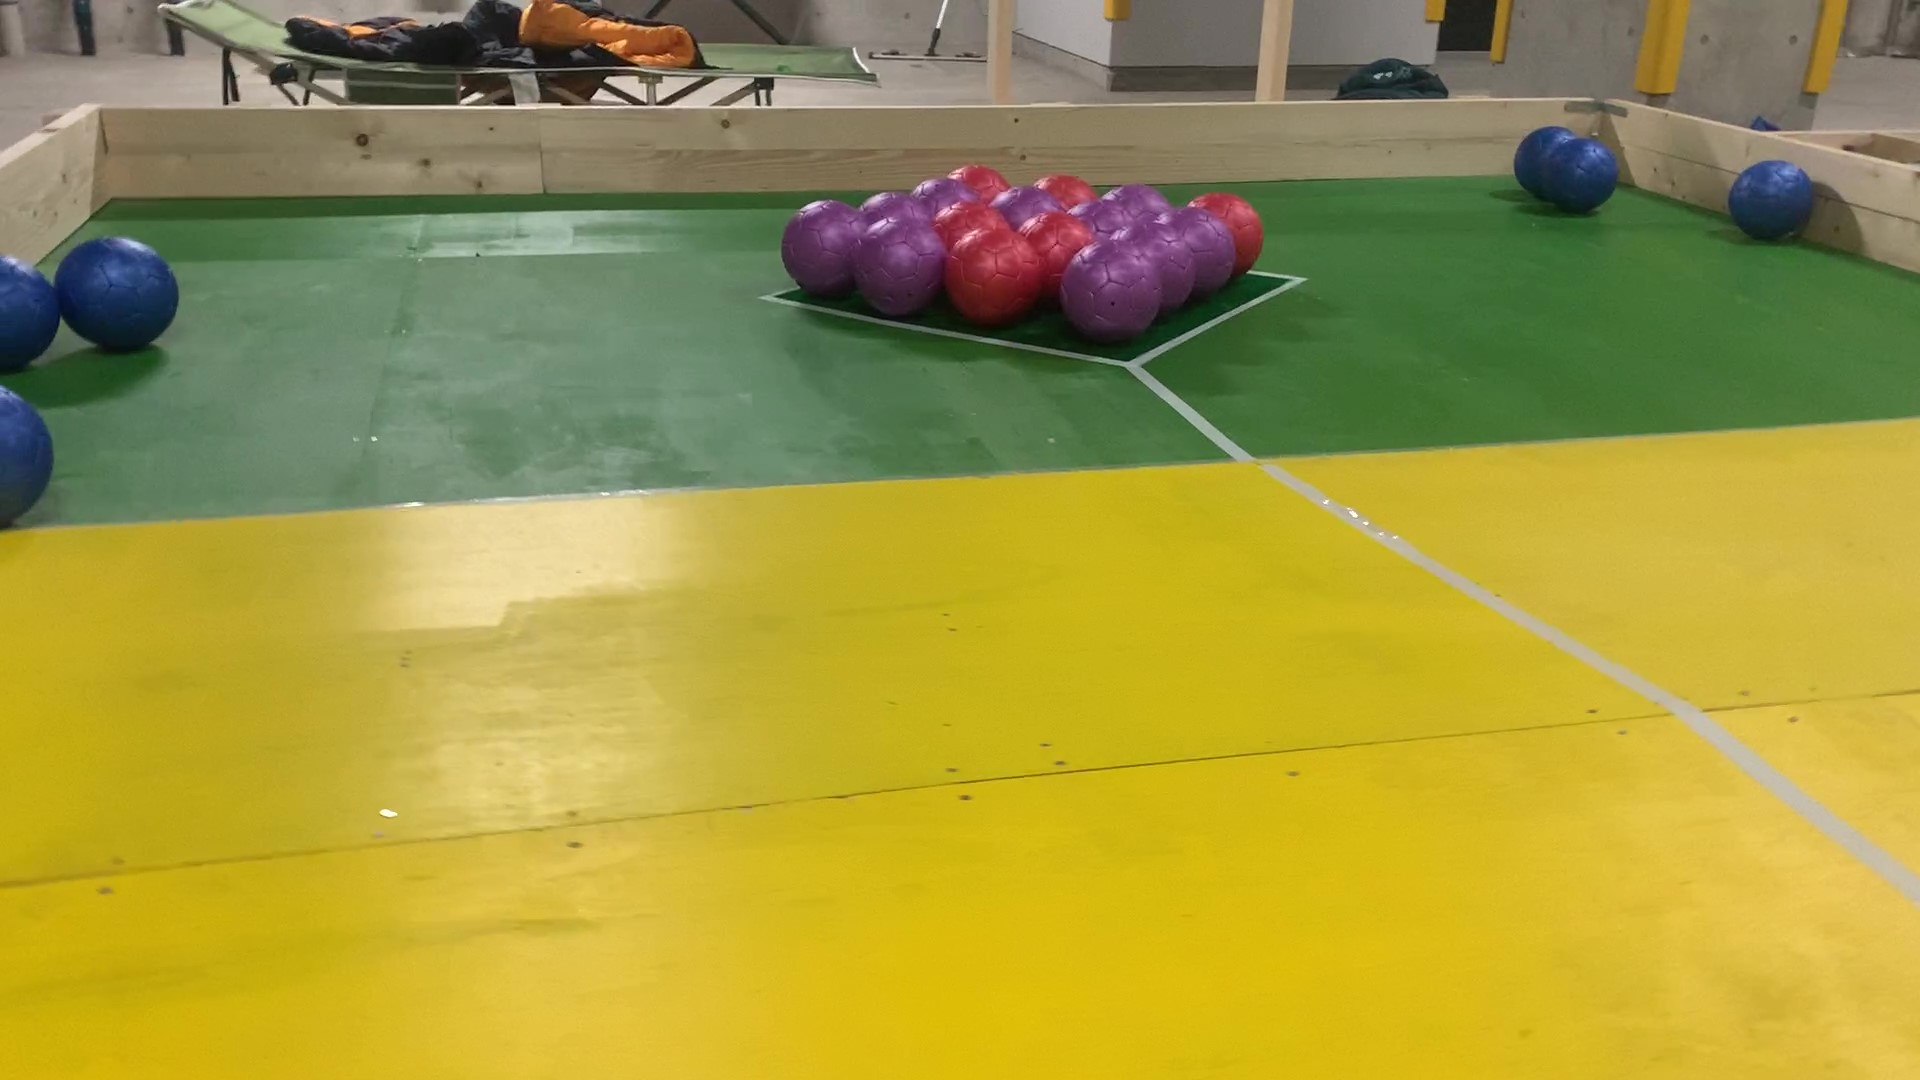blue: (65, 251, 165, 344), (7, 257, 50, 363), (1735, 170, 1807, 232), (4, 390, 40, 512), (1552, 142, 1605, 202), (1519, 131, 1543, 196)
purple: (861, 224, 932, 311), (791, 202, 847, 290), (1080, 247, 1142, 324), (1189, 207, 1229, 291), (1151, 224, 1189, 302), (860, 194, 926, 222), (915, 179, 971, 206), (1114, 183, 1163, 208), (1084, 207, 1130, 232), (998, 195, 1043, 218)
red: (953, 237, 1025, 309), (1226, 195, 1266, 270), (1030, 220, 1081, 270), (952, 162, 1007, 195), (1047, 178, 1092, 210), (944, 210, 1000, 233)
